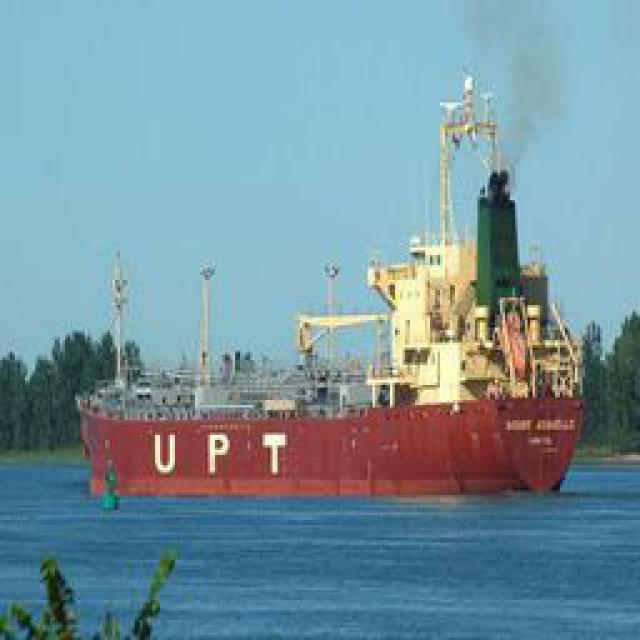Ship: (70, 88, 590, 513)
